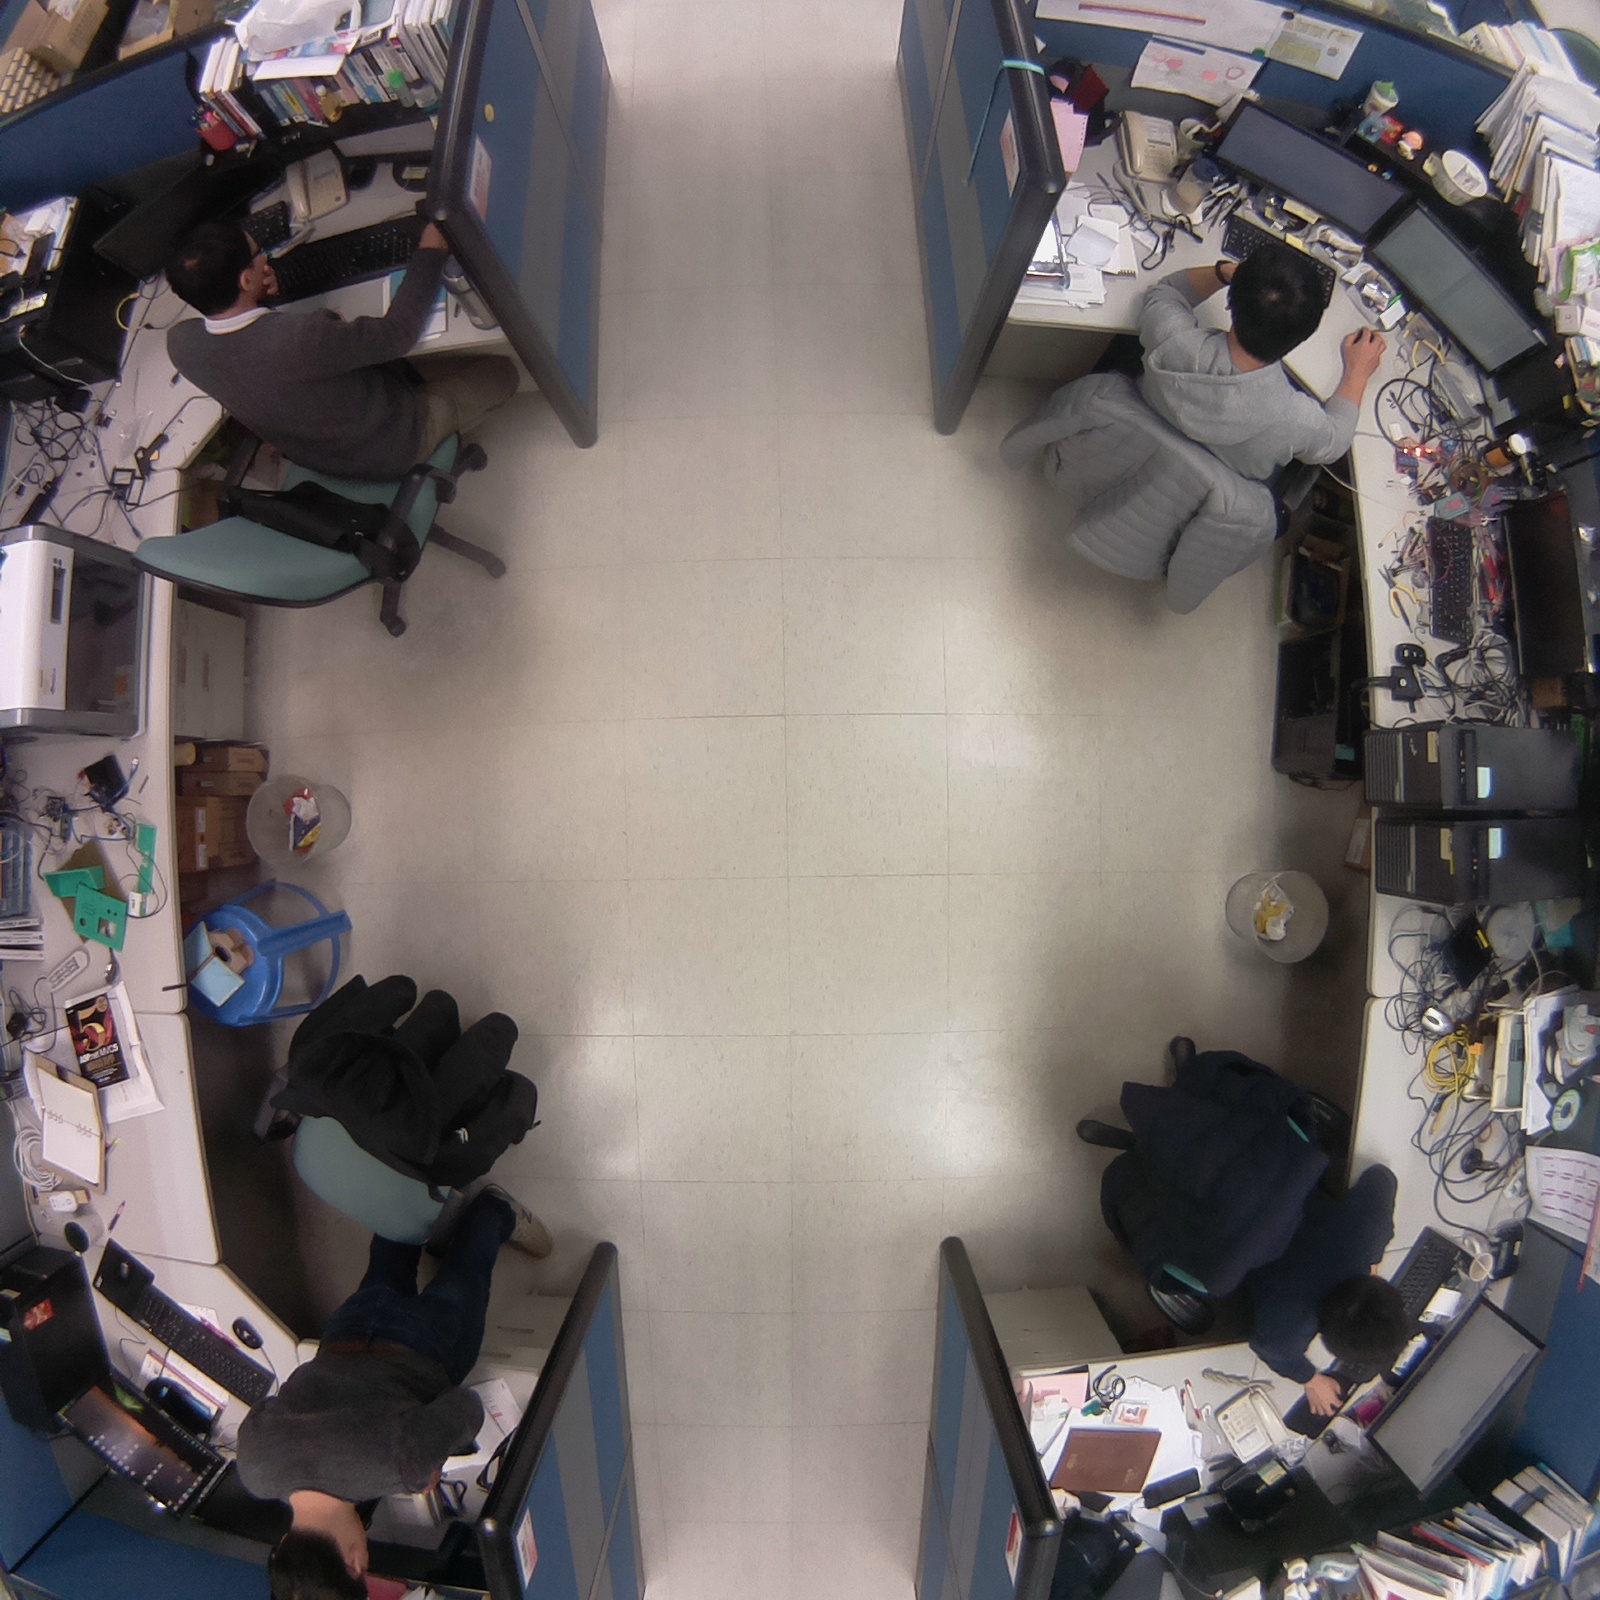chair: (230, 952, 552, 1259)
sitting: (101, 193, 561, 653), (990, 233, 1404, 642), (1059, 1023, 1437, 1455)
standing: (212, 1171, 536, 1599), (214, 1174, 538, 1600)
